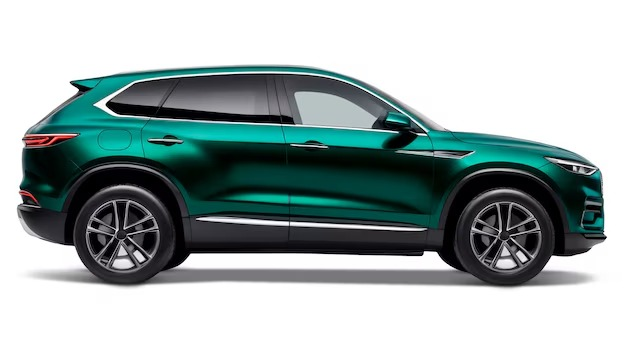car: (11, 68, 614, 288)
